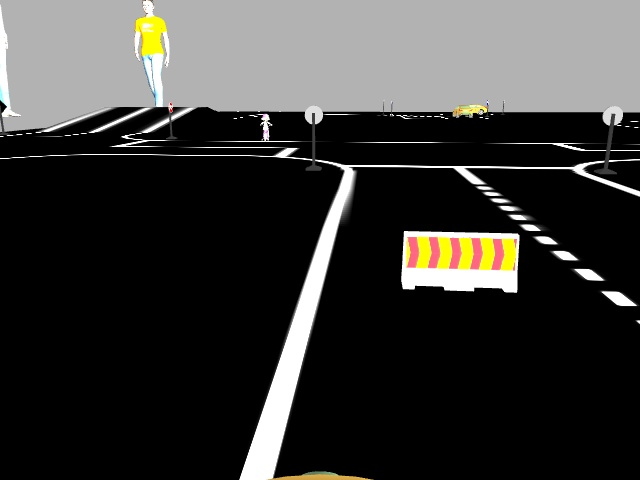ClosedRoadStand: (405, 232, 517, 291)
